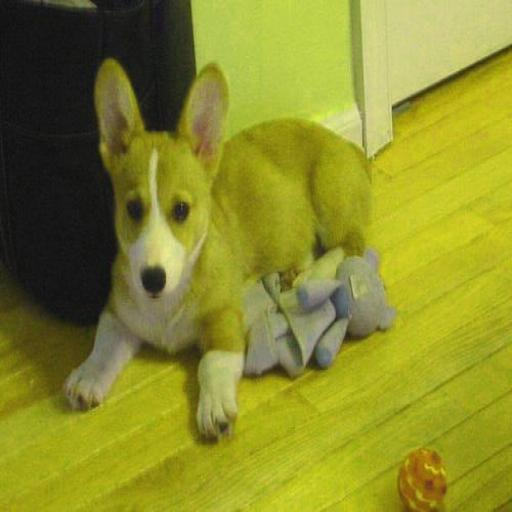dog_face: (88, 62, 228, 292)
